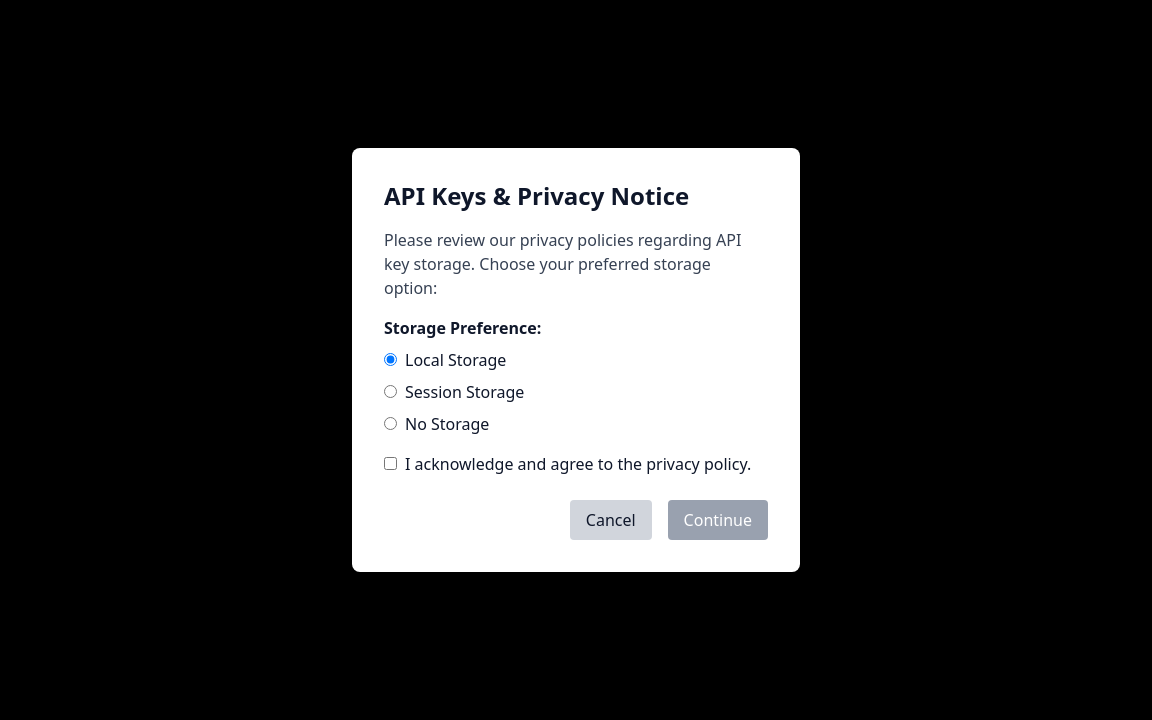
Test case: ConsentModal › enables continue button when checkbox is checked
Click the checkbox labelled "I acknowledge and agree to the privacy policy." at [390, 464], box [384, 457, 397, 470]
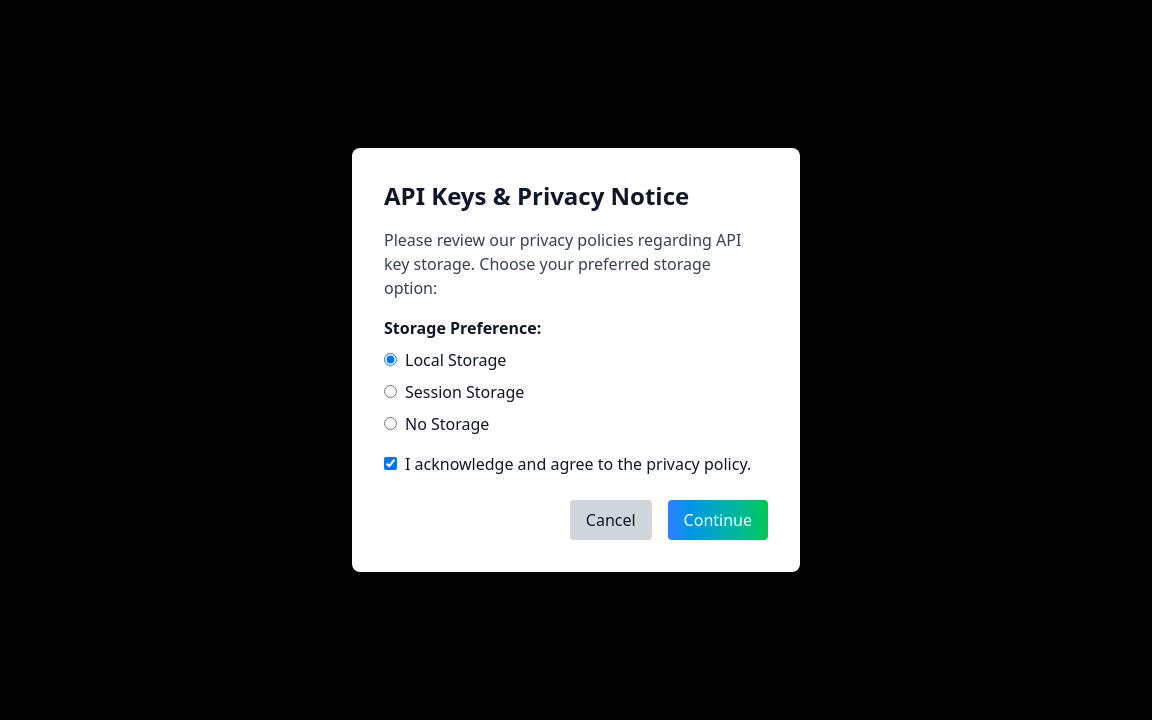
Expected: the button "Continue" is enabled, [668, 500, 768, 540]
